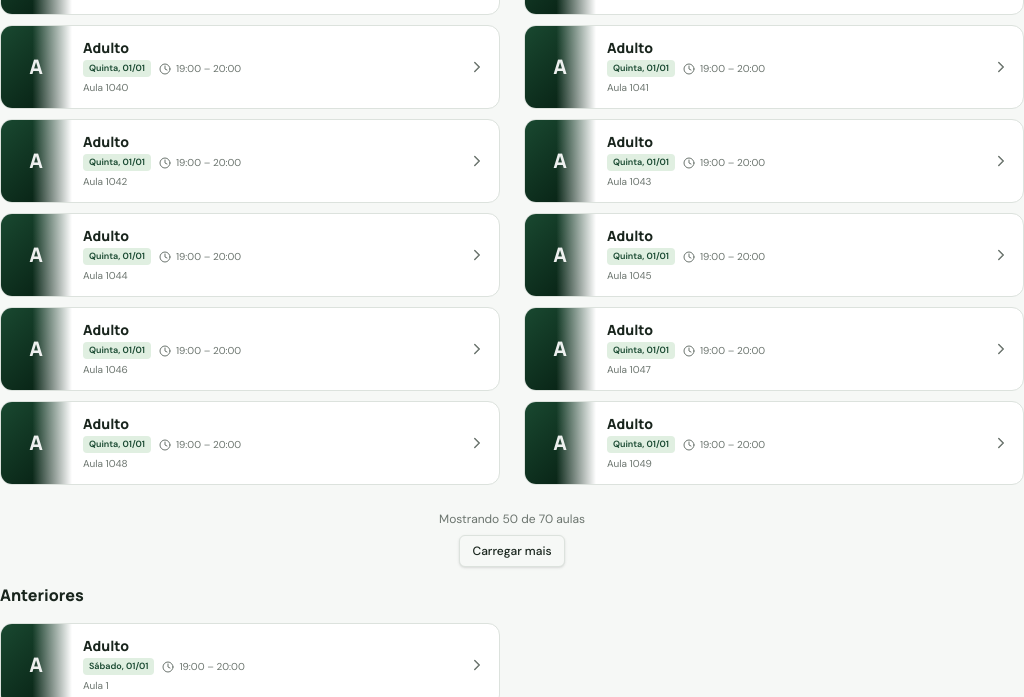
Test: Aulas: próximas e anteriores vêm de consultas por período › pede 'de hoje em diante' (asc) e 'até ontem' (desc, 10) separadamente; 70 próximas => '50 de 70' + carregar mais
The width and height of the screenshot is (1024, 697).
(page scrolled)
Click the button "Carregar mais" at (512, 551), box [459,535,564,567]
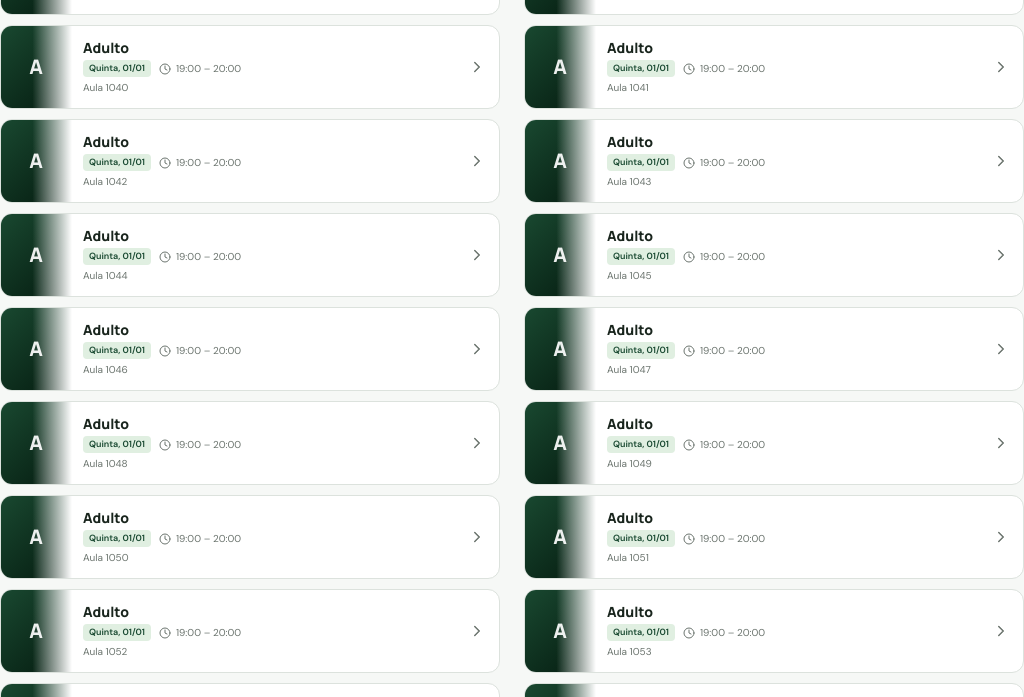
Expected: the text "Mostrando 50 de 70" is gone
